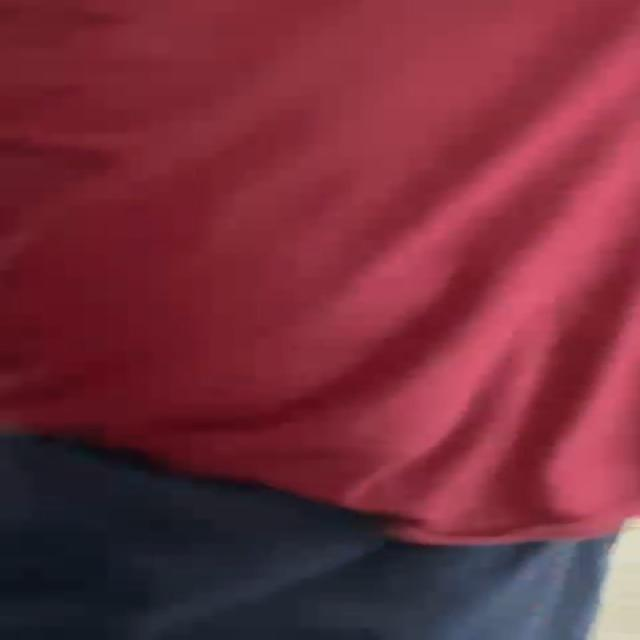authorized: (1, 0, 638, 549)
